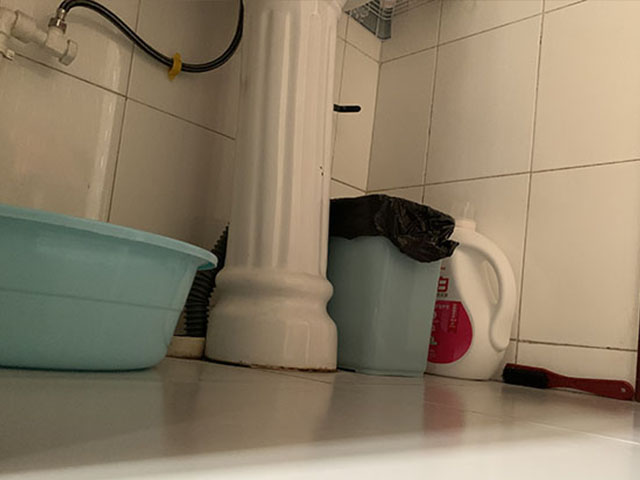trashcan: (329, 190, 454, 377)
